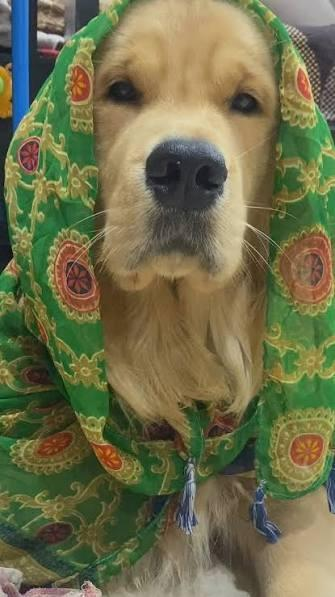adult_dog: (89, 1, 335, 597)
